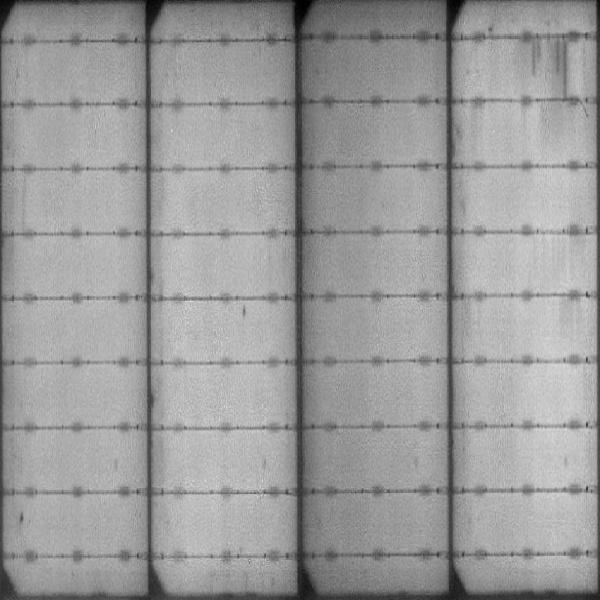scratch: (554, 39, 587, 118), (529, 41, 540, 76)
